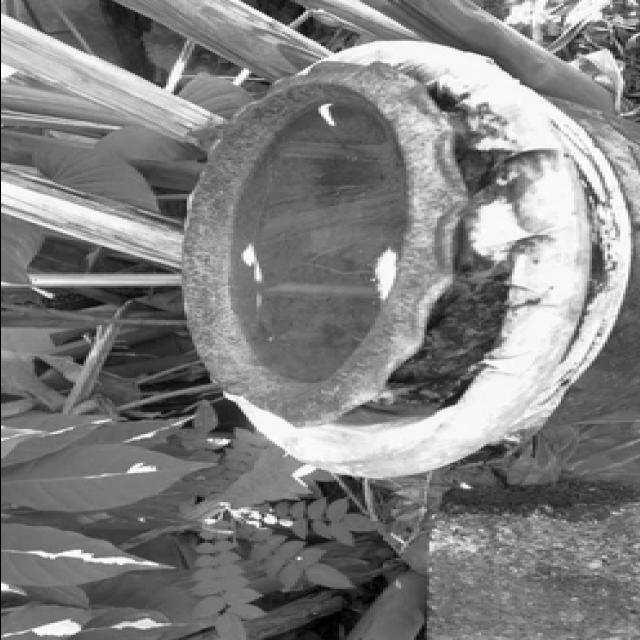Breeding Place: (180, 38, 600, 472)
